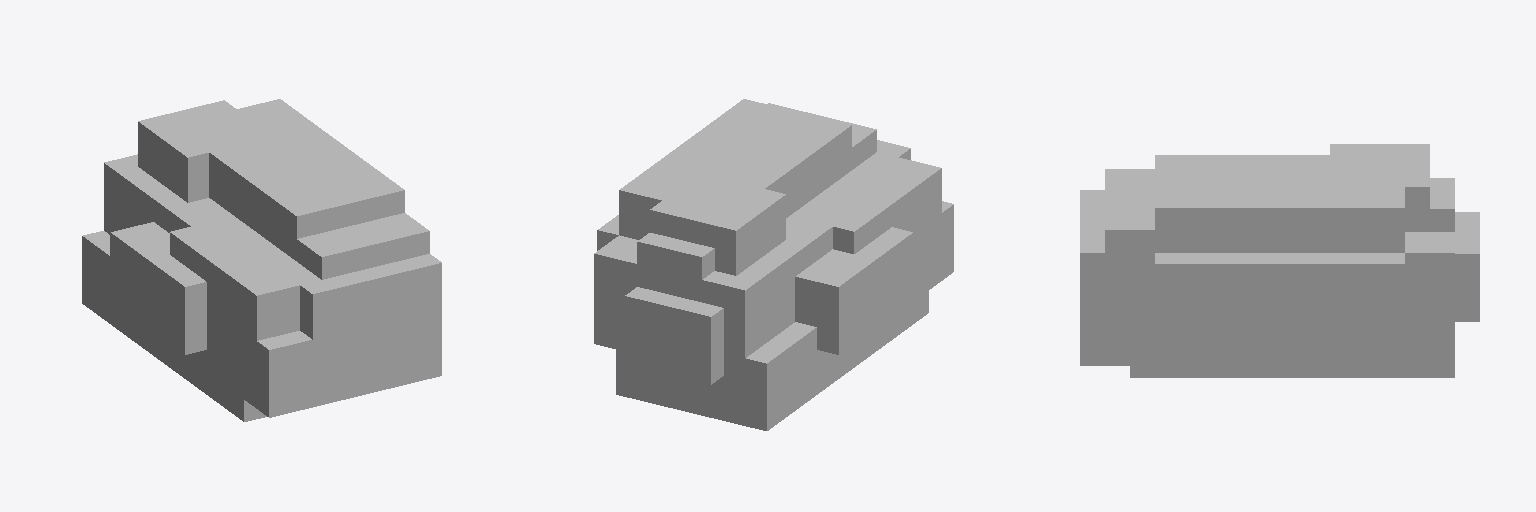
The model's file is cloud2.obj.
3 views of the same model, side by side, from view 1: azimuth 30°, elevation 25°; view 2: azimuth 150°, elevation 25°; view 3: azimuth 270°, elevation 25° (orthographic).
Visible parts, largest first — view 1: object 1; view 2: object 1; view 3: object 1.
Boxes of the visible parts, x1,y1,x2,y2 form: object 1: [82, 99, 441, 421]; object 1: [594, 99, 953, 430]; object 1: [1080, 144, 1479, 377].
Bounding box in the file's own units: 1 × 0.8 × 1.6.